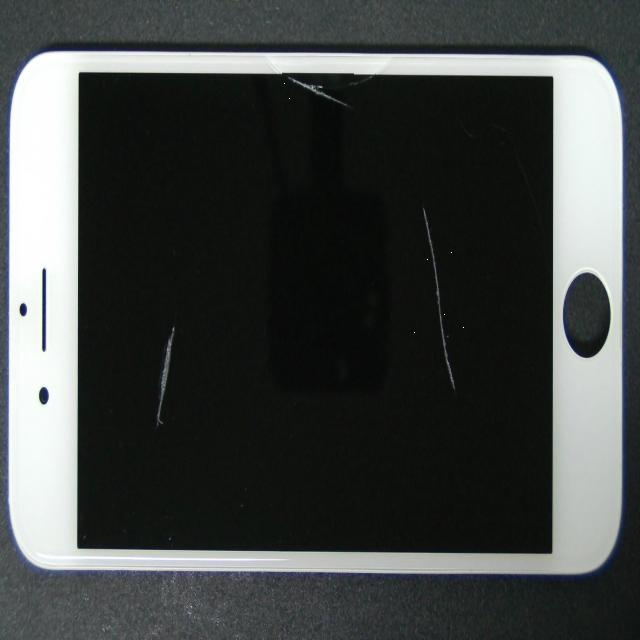scratch: (191, 52, 625, 406), (76, 226, 229, 640), (208, 49, 491, 120)
